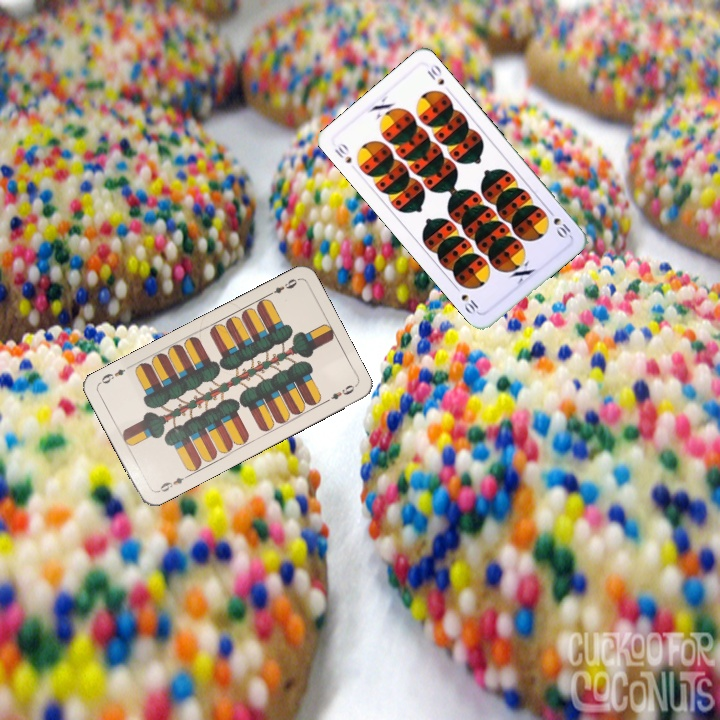E9: (153, 471, 191, 495), (263, 275, 300, 299)
S10: (544, 205, 573, 241), (330, 139, 354, 166)
